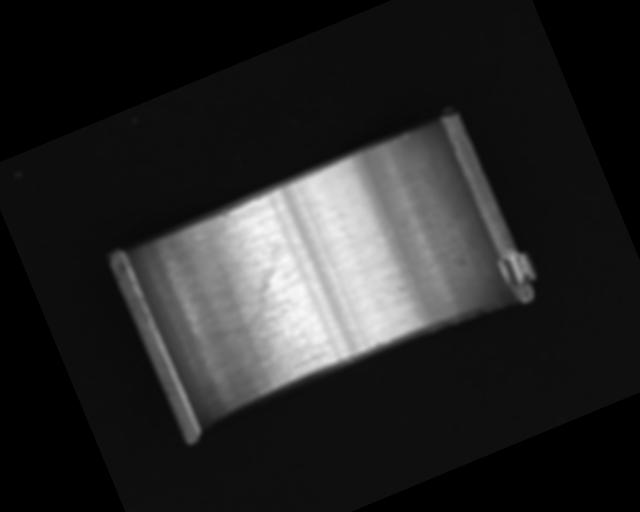bruise: (218, 208, 232, 221)
